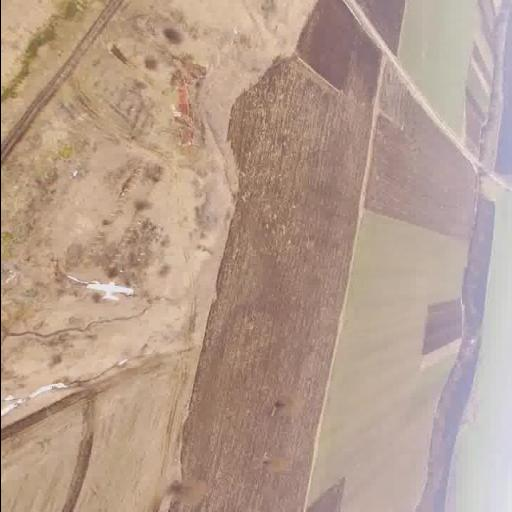uav: (84, 265, 138, 309)
